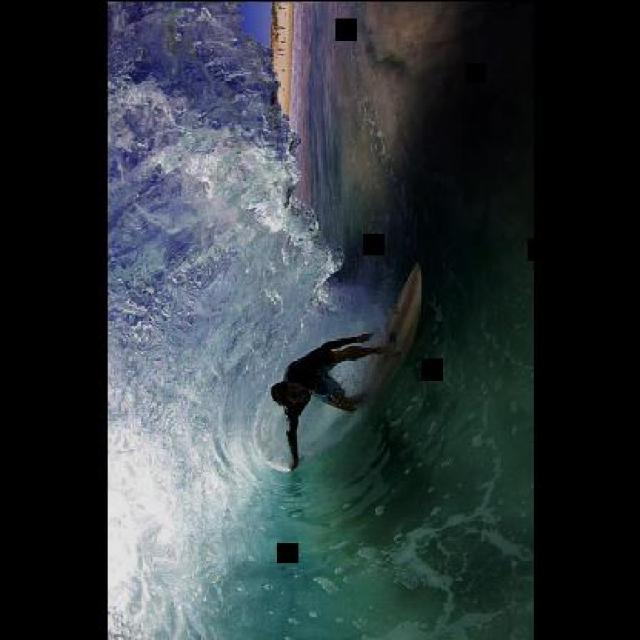unauthorized: (268, 330, 390, 472)
